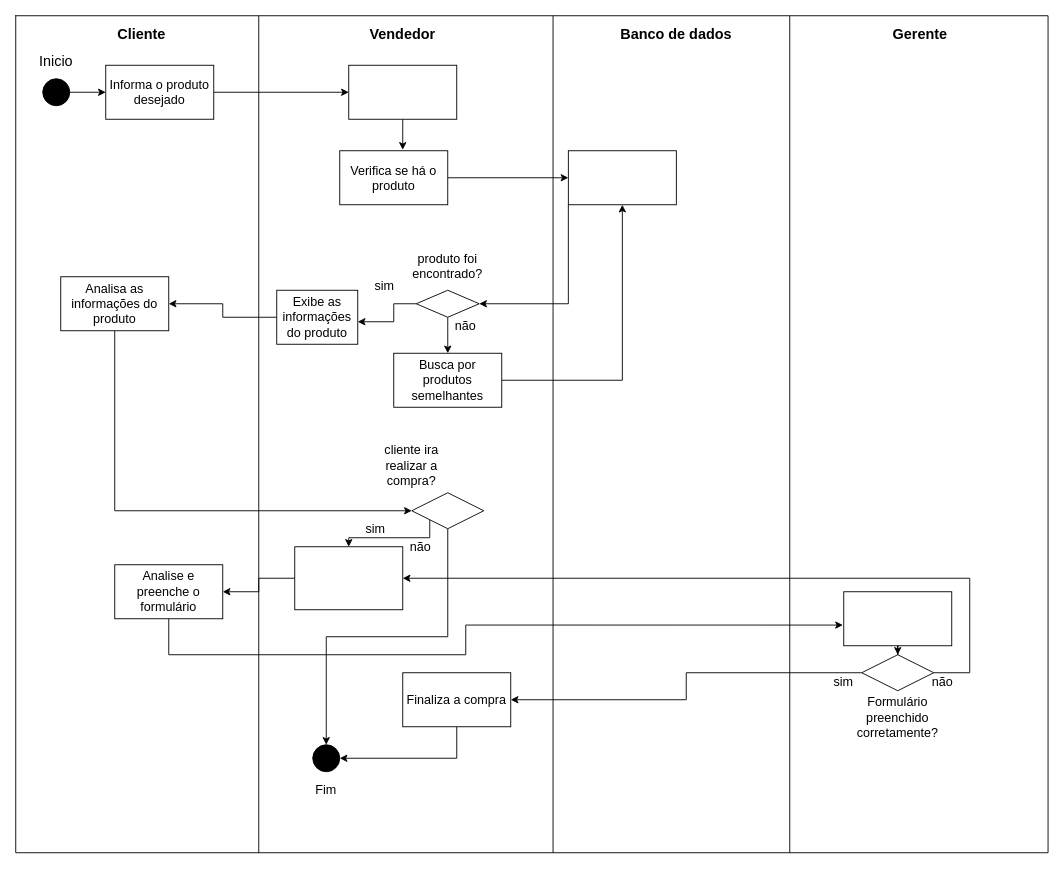
The diagram is 1064 pixels wide and 869 high, and some of its shapes have lost their labels. The box of each missing label's shape, as (x1, y1, x2, y2) in pixels:
Analisa a escolha do produto: (348, 64, 457, 119)
Analisa se os dados estão corretos: (843, 591, 952, 646)
Exibe o formulário de preenchimento pra finalizar a compra: (294, 546, 403, 610)
Procura pelo produto em estoque: (567, 150, 676, 205)
